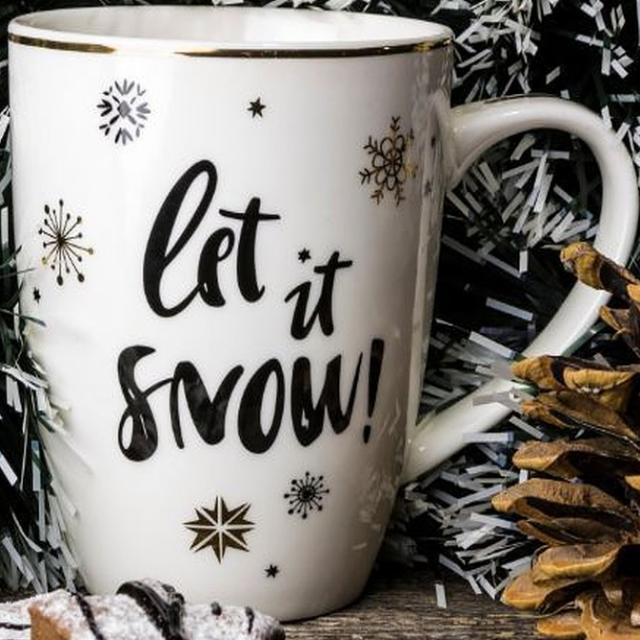cup: (8, 8, 632, 628)
